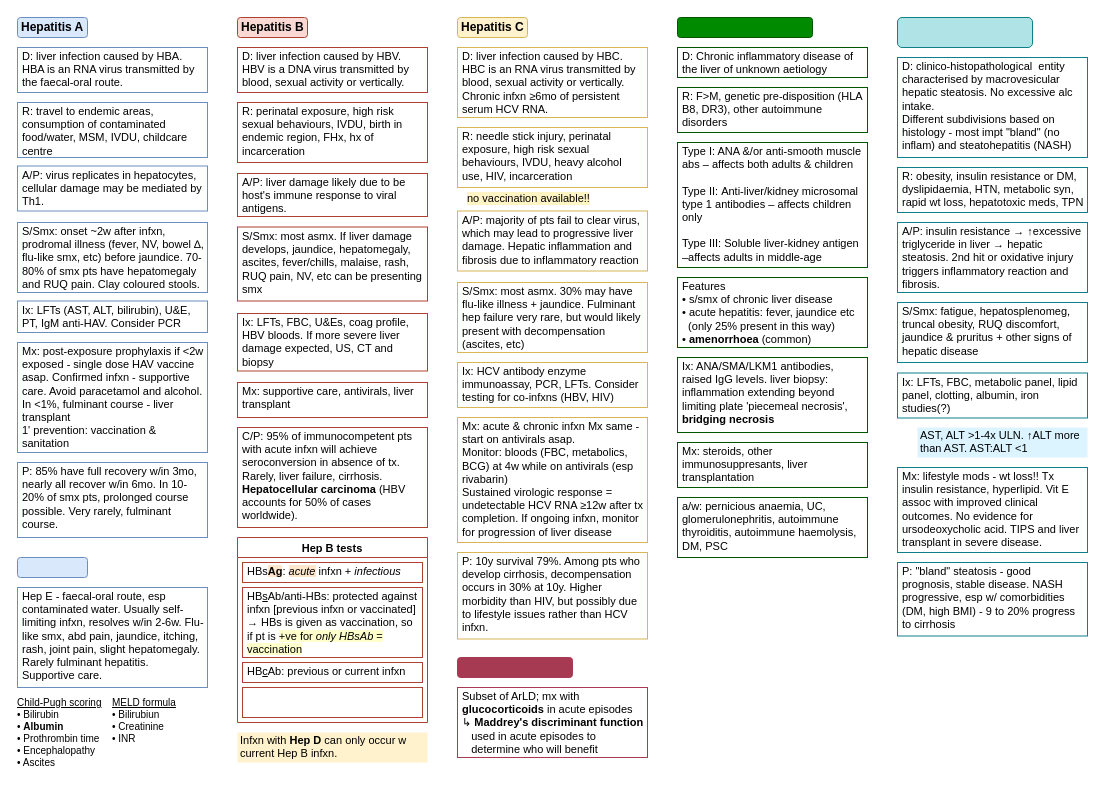
Some shapes in this 1105 by 787 pixel diagram are drawn without their labels. The centre of each missing label's shape, as x and y in pixels:
"Alcoholic hepatitis" goes at point 514,667.
"Autoimmune hepatitis" goes at point 744,27.
"Hepatitis E" goes at point 52,567.
"IgM anti-HBc: acute infxn IgG anti-HBc: past infxn" goes at point 332,702.
"Non-alcoholic fatty liver disease (NAFLD)" goes at point 964,32.
